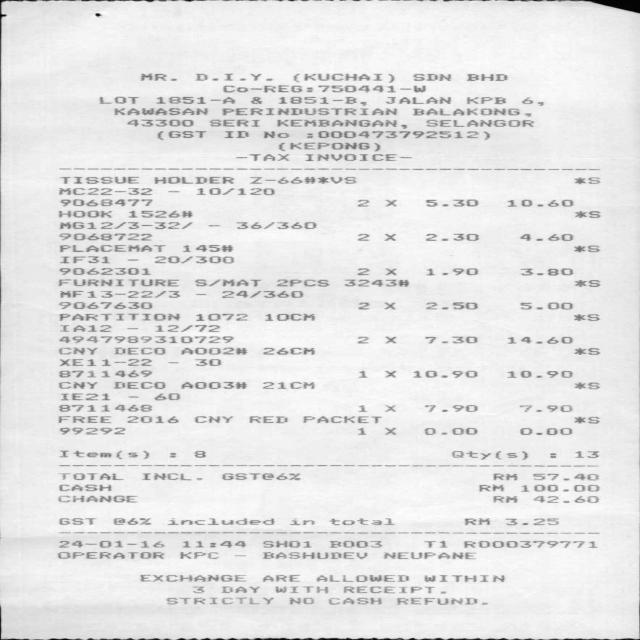text: (304, 131, 488, 140), (221, 108, 396, 116), (274, 119, 406, 129), (58, 336, 232, 343), (57, 222, 191, 230), (291, 73, 393, 83), (57, 313, 178, 321), (58, 290, 178, 298), (462, 541, 596, 548), (276, 142, 379, 151), (278, 96, 365, 106), (249, 176, 355, 184), (139, 574, 245, 582), (58, 540, 163, 548), (58, 279, 177, 286), (342, 586, 444, 594), (58, 450, 148, 459), (450, 450, 528, 460), (304, 154, 411, 161), (56, 552, 163, 559), (412, 108, 505, 116), (58, 187, 151, 195), (58, 232, 151, 240), (58, 404, 151, 412), (58, 245, 164, 252), (167, 518, 273, 525), (262, 552, 366, 559), (59, 267, 149, 275), (112, 108, 207, 115), (57, 370, 151, 377), (220, 290, 302, 298), (58, 302, 151, 309), (58, 359, 151, 366), (315, 575, 408, 582), (60, 199, 152, 206), (382, 552, 474, 559), (154, 96, 234, 104), (152, 176, 232, 184), (396, 597, 476, 605), (166, 598, 272, 604), (59, 176, 138, 184), (519, 484, 598, 492), (57, 495, 136, 503), (193, 73, 271, 81), (302, 416, 380, 424), (222, 85, 309, 92), (425, 120, 505, 127), (235, 222, 315, 229), (423, 575, 503, 582), (196, 188, 274, 195), (154, 256, 232, 263), (221, 473, 299, 480), (506, 199, 572, 207), (506, 336, 572, 344), (180, 347, 246, 355), (180, 381, 246, 389), (532, 473, 598, 481), (194, 279, 259, 287), (343, 279, 408, 287), (154, 324, 219, 332), (180, 540, 245, 548), (507, 370, 571, 378), (412, 370, 476, 378), (533, 495, 597, 503), (320, 85, 392, 92), (128, 210, 191, 218), (126, 119, 193, 126), (58, 427, 124, 434), (385, 97, 450, 104), (328, 518, 393, 525), (155, 131, 205, 140), (58, 473, 122, 480), (518, 233, 572, 241), (424, 199, 477, 207), (58, 210, 111, 218), (424, 233, 477, 241), (519, 268, 572, 276), (275, 279, 328, 287), (327, 597, 380, 605), (141, 473, 201, 480), (194, 313, 246, 321), (112, 347, 164, 355), (262, 347, 314, 355), (112, 381, 164, 389), (261, 381, 313, 389), (424, 404, 476, 412), (424, 427, 476, 435), (329, 540, 381, 548), (425, 302, 476, 310), (520, 302, 571, 310), (59, 324, 110, 332), (208, 119, 258, 127), (264, 313, 314, 321), (262, 540, 310, 548), (234, 154, 288, 161), (518, 405, 572, 412), (424, 268, 477, 275), (57, 416, 110, 423), (504, 518, 557, 525), (424, 336, 476, 343), (126, 416, 178, 423), (519, 428, 571, 435), (275, 586, 327, 593), (58, 256, 109, 263), (59, 484, 110, 491), (182, 245, 232, 252), (60, 393, 109, 400), (466, 73, 506, 81), (98, 96, 138, 104), (411, 73, 450, 81), (356, 233, 395, 241), (57, 347, 96, 355), (57, 381, 96, 389), (193, 415, 232, 423), (178, 551, 217, 559), (138, 73, 175, 81), (357, 302, 394, 310), (112, 517, 149, 525), (261, 574, 298, 582), (356, 200, 396, 207), (356, 268, 396, 275), (356, 336, 396, 343), (247, 416, 286, 423), (466, 97, 504, 104), (58, 518, 95, 525), (221, 586, 258, 593), (505, 108, 530, 117), (572, 347, 598, 355), (477, 484, 503, 492), (491, 495, 517, 503), (287, 597, 313, 605), (573, 416, 598, 424), (422, 540, 446, 548), (506, 120, 533, 127), (572, 177, 599, 184), (572, 314, 599, 321), (489, 473, 516, 480), (222, 131, 248, 138), (262, 131, 288, 138), (574, 211, 600, 218), (572, 245, 598, 252), (572, 280, 598, 287), (194, 359, 220, 366), (572, 382, 598, 389), (153, 393, 179, 400), (463, 518, 489, 525), (522, 97, 542, 106), (399, 85, 424, 92), (573, 451, 598, 458), (289, 518, 313, 525), (192, 450, 205, 458), (248, 97, 261, 104), (191, 586, 203, 593), (384, 370, 394, 378), (384, 427, 394, 435), (357, 370, 366, 378), (356, 427, 365, 435), (384, 405, 394, 412), (358, 405, 365, 412)
